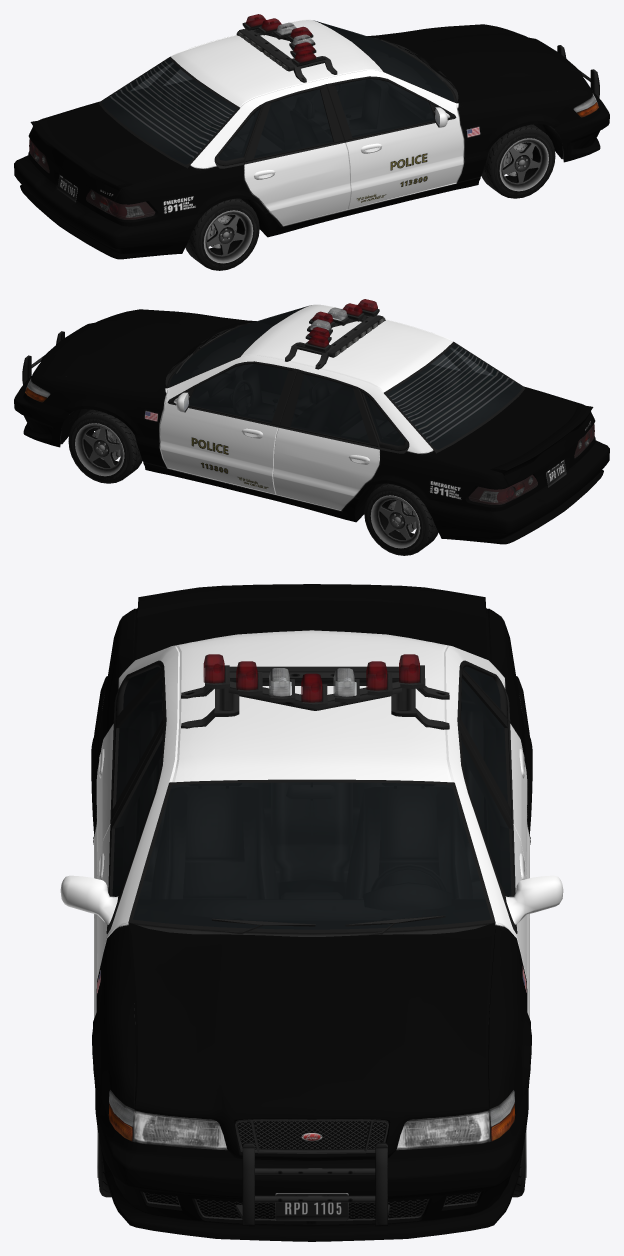
The model's file is murphy97.glb.
The picture shows the model from 3 angles, top to bottom: view 1: azimuth 30°, elevation 25°; view 2: azimuth 150°, elevation 25°; view 3: azimuth 270°, elevation 25°; orthographic projection. The views are drawn at different scales.
Visible parts, largest first — view 1: Murphy92_Body005_Murphy92_Bodymat_0, Murphy92_Interior005_UCB_Interior_Trim_0, Murphy97_Hood003_Murphy92_Bodymat_0, Murphy92_Glass_Rear005_UCB_Lights_and_Glass_Transperent_0, Murphy92_Trunkdoor005_Murphy92_Bodymat_0, Murphy97SP_Bumper_rear001_Murphy92_Bodymat_0, Murphy92_Bottom005_UCB_BOTTOM_GT_0, Murphy92_Glass_Body005_UCB_Lights_and_Glass_Transperent_0, Murphy97SP_WheelSport_FR001_RB1c_Tire_1k_0, Murphy92_Glass_Passanger005_UCB_Lights_and_Glass_Transperent, Murphy97SP_WheelSport_RR001_RB1c_Tire_1k_0, Murphy92_Windshield005_UCB_Lights_and_Glass_Transperent_0 (+7 smaller); view 2: Murphy92_Body005_Murphy92_Bodymat_0, Murphy92_Interior005_UCB_Interior_Trim_0, Murphy97_Hood003_Murphy92_Bodymat_0, Murphy92_Glass_Rear005_UCB_Lights_and_Glass_Transperent_0, Murphy92_Trunkdoor005_Murphy92_Bodymat_0, Murphy97SP_Bumper_rear001_Murphy92_Bodymat_0, Murphy92_Bottom005_UCB_BOTTOM_GT_0, Murphy92_Glass_Body005_UCB_Lights_and_Glass_Transperent_0, Murphy97SP_WheelSport_FL001_RB1c_Tire_1k_0, Murphy92_Glass_Driver005_UCB_Lights_and_Glass_Transperent_0, Murphy97SP_WheelSport_RL001_RB1c_Tire_1k_0, Murphy92_Windshield005_UCB_Lights_and_Glass_Transperent_0 (+8 smaller); view 3: Murphy97_Hood003_Murphy92_Bodymat_0, Murphy92_Body005_Murphy92_Bodymat_0, Murphy92_Interior005_UCB_Interior_Trim_0, Murphy92_Windshield005_UCB_Lights_and_Glass_Transperent_0, Murphy97SP_Bumper_Front001_Murphy92_Bodymat_0, Murphy92_Bottom005_UCB_BOTTOM_GT_0, Murphy92_Trunkdoor005_Murphy92_Bodymat_0, Murphy92_Lightbar002_UCB_BOTTOM_GT_0, Murphy97_Headlights_Glass003_UCB_Lights_and_Glass_Transperen, Murphy92_Glass_Body005_UCB_Lights_and_Glass_Transperent_0, Murphy97SP_Spoiler001_Murphy92_Bodymat_0, Murphy97_Headlights003_UCB_Lights_and_Glass_0 (+8 smaller).
Part boxes in pixels (x1=…): Murphy92_Body005_Murphy92_Bodymat_0: x1=28, y1=19, x2=592, y2=237; Murphy92_Interior005_UCB_Interior_Trim_0: x1=102, y1=22, x2=454, y2=164; Murphy97_Hood003_Murphy92_Bodymat_0: x1=368, y1=25, x2=592, y2=103; Murphy92_Glass_Rear005_UCB_Lights_and_Glass_Transperent_0: x1=101, y1=59, x2=237, y2=164; Murphy92_Trunkdoor005_Murphy92_Bodymat_0: x1=31, y1=103, x2=186, y2=201; Murphy97SP_Bumper_rear001_Murphy92_Bodymat_0: x1=14, y1=155, x2=203, y2=259; Murphy92_Bottom005_UCB_BOTTOM_GT_0: x1=98, y1=20, x2=562, y2=236; Murphy92_Glass_Body005_UCB_Lights_and_Glass_Transperent_0: x1=130, y1=62, x2=333, y2=160; Murphy97SP_WheelSport_FR001_RB1c_Tire_1k_0: x1=481, y1=124, x2=555, y2=198; Murphy92_Glass_Passanger005_UCB_Lights_and_Glass_Transperent: x1=335, y1=79, x2=434, y2=137; Murphy97SP_WheelSport_RR001_RB1c_Tire_1k_0: x1=185, y1=198, x2=259, y2=270; Murphy92_Windshield005_UCB_Lights_and_Glass_Transperent_0: x1=316, y1=21, x2=454, y2=101; Murphy92_Body005_Murphy92_Bodymat_0: x1=31, y1=304, x2=595, y2=522; Murphy92_Interior005_UCB_Interior_Trim_0: x1=169, y1=307, x2=521, y2=449; Murphy97_Hood003_Murphy92_Bodymat_0: x1=31, y1=310, x2=255, y2=388; Murphy92_Glass_Rear005_UCB_Lights_and_Glass_Transperent_0: x1=386, y1=344, x2=522, y2=449; Murphy92_Trunkdoor005_Murphy92_Bodymat_0: x1=437, y1=388, x2=592, y2=486; Murphy97SP_Bumper_rear001_Murphy92_Bodymat_0: x1=420, y1=440, x2=609, y2=544; Murphy92_Bottom005_UCB_BOTTOM_GT_0: x1=61, y1=305, x2=525, y2=521; Murphy92_Glass_Body005_UCB_Lights_and_Glass_Transperent_0: x1=290, y1=348, x2=493, y2=445; Murphy97SP_WheelSport_FL001_RB1c_Tire_1k_0: x1=68, y1=409, x2=142, y2=483; Murphy92_Glass_Driver005_UCB_Lights_and_Glass_Transperent_0: x1=189, y1=364, x2=288, y2=422; Murphy97SP_WheelSport_RL001_RB1c_Tire_1k_0: x1=364, y1=483, x2=438, y2=555; Murphy92_Windshield005_UCB_Lights_and_Glass_Transperent_0: x1=169, y1=306, x2=307, y2=386; Murphy97_Hood003_Murphy92_Bodymat_0: x1=128, y1=922, x2=495, y2=1160; Murphy92_Body005_Murphy92_Bodymat_0: x1=60, y1=608, x2=563, y2=1118; Murphy92_Interior005_UCB_Interior_Trim_0: x1=113, y1=667, x2=510, y2=929; Murphy92_Windshield005_UCB_Lights_and_Glass_Transperent_0: x1=133, y1=782, x2=490, y2=929; Murphy97SP_Bumper_Front001_Murphy92_Bodymat_0: x1=95, y1=1089, x2=528, y2=1241; Murphy92_Bottom005_UCB_BOTTOM_GT_0: x1=106, y1=660, x2=517, y2=1024; Murphy92_Trunkdoor005_Murphy92_Bodymat_0: x1=133, y1=600, x2=490, y2=661; Murphy92_Lightbar002_UCB_BOTTOM_GT_0: x1=181, y1=664, x2=449, y2=729; Murphy97_Headlights_Glass003_UCB_Lights_and_Glass_Transperen: x1=108, y1=1090, x2=515, y2=1150; Murphy92_Glass_Body005_UCB_Lights_and_Glass_Transperent_0: x1=116, y1=666, x2=507, y2=802; Murphy97SP_Spoiler001_Murphy92_Bodymat_0: x1=137, y1=584, x2=486, y2=617; Murphy97_Headlights003_UCB_Lights_and_Glass_0: x1=132, y1=1109, x2=491, y2=1149.
Size of the model in its own units: 4.98 by 1.55 by 2.05.
8 materials, 8 textured.
